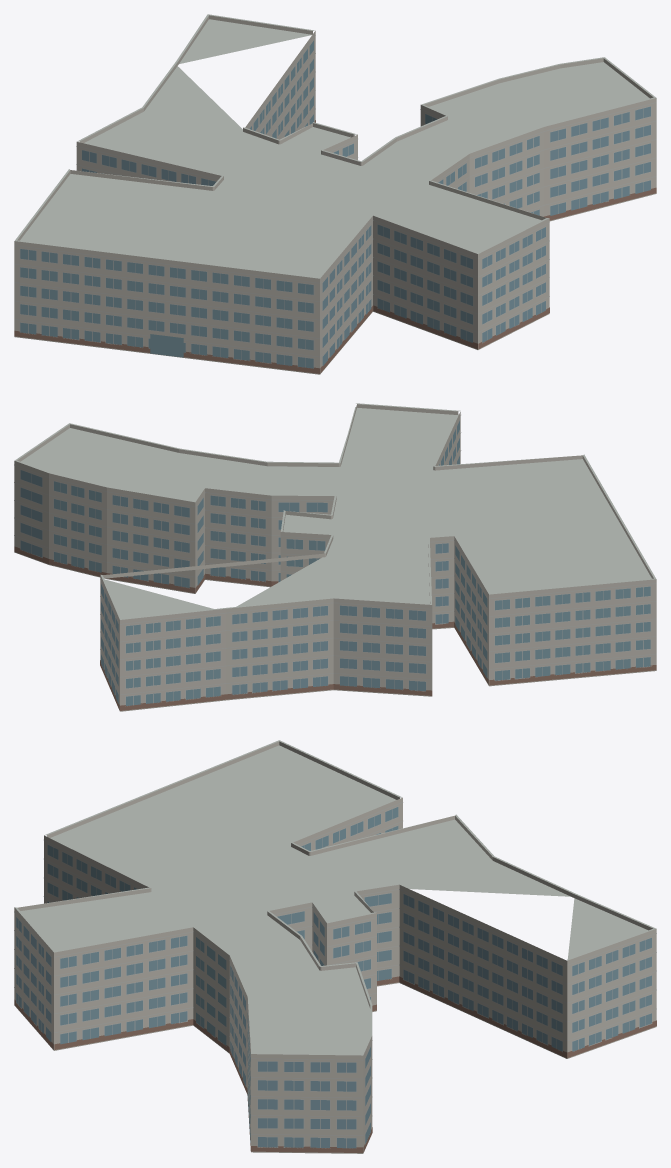
Rendered from public-605c1f08-707e-40bb-8d72-50a4536aef49.glb.
The picture shows the model from 3 angles, top to bottom: view 1: azimuth 30°, elevation 25°; view 2: azimuth 150°, elevation 25°; view 3: azimuth 270°, elevation 25°; orthographic projection. The views are drawn at different scales.
Parts seen in each view (by area): view 1: public-605c1f08-707e-40bb-8d72-50a4536aef49; view 2: public-605c1f08-707e-40bb-8d72-50a4536aef49; view 3: public-605c1f08-707e-40bb-8d72-50a4536aef49.
Boxes of the visible parts, box(x1,y1,x2,y2) form: public-605c1f08-707e-40bb-8d72-50a4536aef49: box(14, 14, 656, 374); public-605c1f08-707e-40bb-8d72-50a4536aef49: box(14, 403, 656, 711); public-605c1f08-707e-40bb-8d72-50a4536aef49: box(14, 740, 656, 1153).
Size of the model in its own units: 105 by 15.25 by 90.33.
